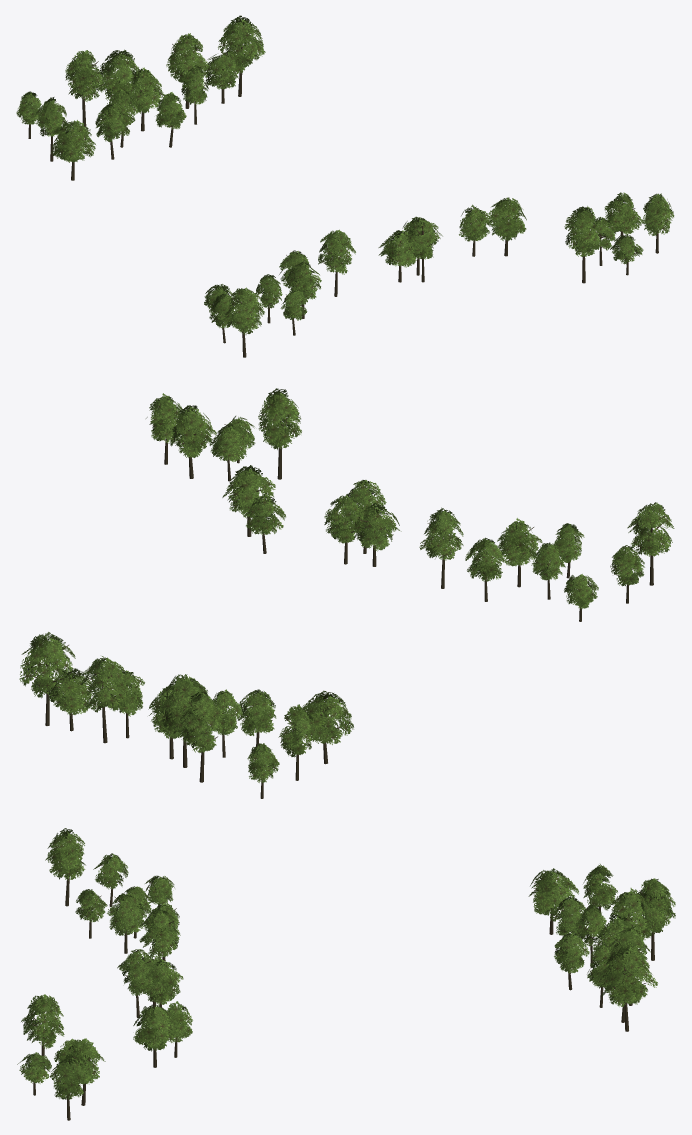
File: TRB8-FOREST-CHUNK-6-3.glb
3 renders of one model, top to bottom at view 1: azimuth 30°, elevation 25°; view 2: azimuth 150°, elevation 25°; view 3: azimuth 270°, elevation 25°, orthographic. The views are drawn at different scales.
Visible parts, largest first — view 1: TRB8-FOREST-CHUNK-6-3; view 2: TRB8-FOREST-CHUNK-6-3; view 3: TRB8-FOREST-CHUNK-6-3.
Boxes of the visible parts, <box> form: TRB8-FOREST-CHUNK-6-3: <box>16,15,674,357</box>; TRB8-FOREST-CHUNK-6-3: <box>19,388,674,798</box>; TRB8-FOREST-CHUNK-6-3: <box>17,828,675,1120</box>.
Bounding box in the file's own units: 36 × 6.98 × 42.42.
2 materials, 1 textured.
